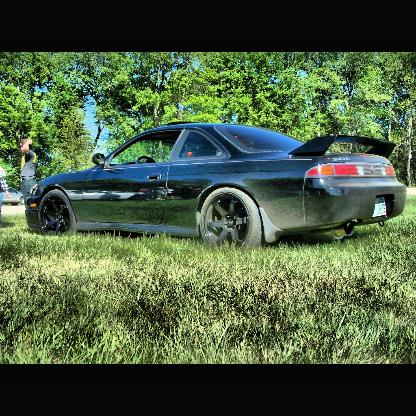Nissan 240SX Coupe 1998: (24, 119, 409, 257)
